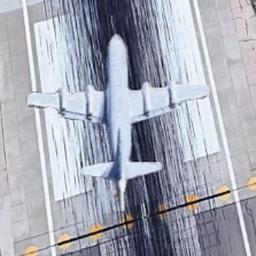Airplane: (25, 31, 214, 212)
